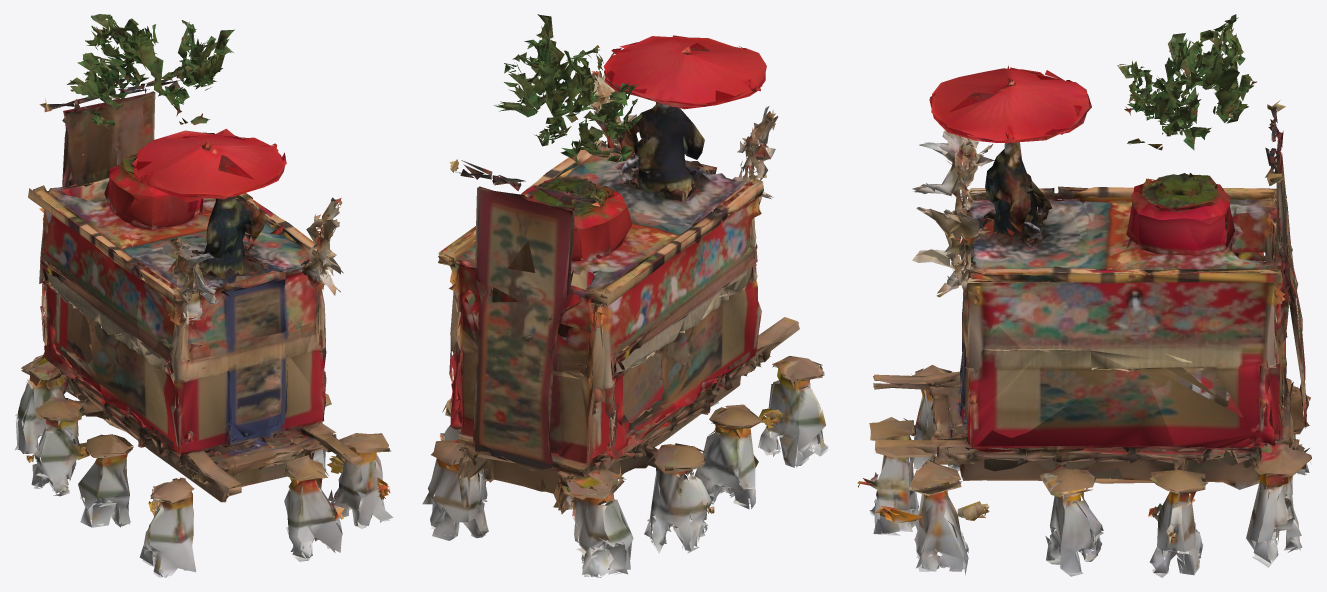
The model's file is 伯牙山.glb.
The picture shows the model from 3 angles, left to right: view 1: azimuth 30°, elevation 25°; view 2: azimuth 150°, elevation 25°; view 3: azimuth 270°, elevation 25°; orthographic projection. The views are drawn at different scales.
Parts seen in each view (by area): view 1: Mesh1.0, Mesh1.001; view 2: Mesh1.0, Mesh1.001; view 3: Mesh1.0, Mesh1.001.
Part boxes in pixels (left/top/right/bottom): Mesh1.0: left=14, top=14, right=393, bottom=577; Mesh1.001: left=199, top=196, right=284, bottom=278; Mesh1.0: left=422, top=14, right=828, bottom=577; Mesh1.001: left=606, top=102, right=704, bottom=202; Mesh1.0: left=857, top=14, right=1311, bottom=577; Mesh1.001: left=985, top=142, right=1052, bottom=241.
Size of the model in its own units: 3.62 by 5.92 by 5.05.
Materials: 2 (2 with a texture image).
